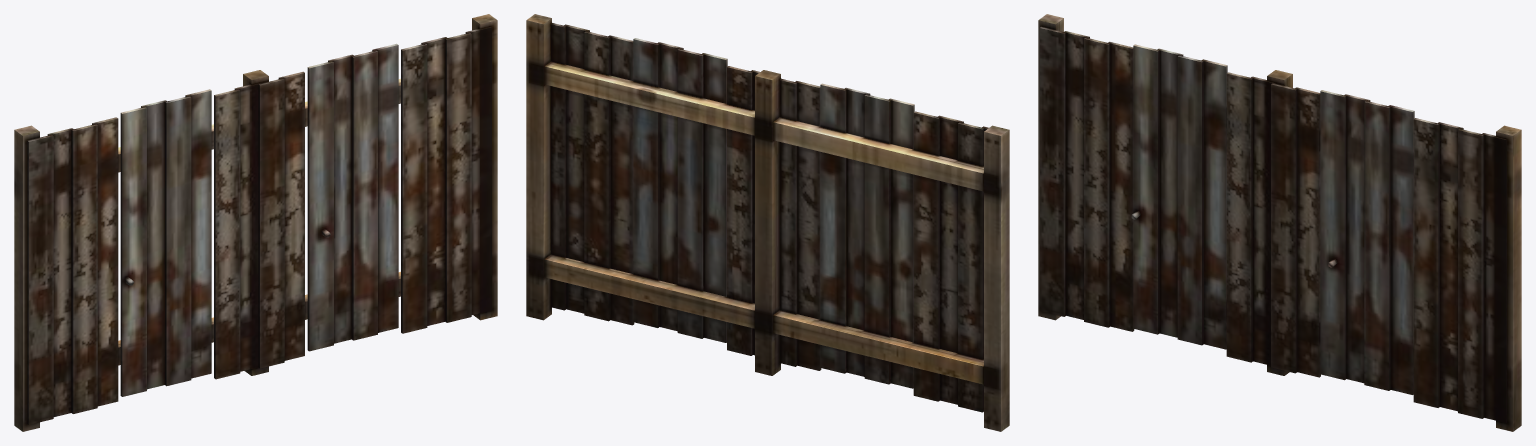
The model's file is div_chapa.glb.
3 renders of one model, left to right at view 1: azimuth 30°, elevation 25°; view 2: azimuth 150°, elevation 25°; view 3: azimuth 330°, elevation 25°, orthographic.
Visible parts, largest first — view 1: div_chapa; view 2: div_chapa; view 3: div_chapa.
Boxes of the visible parts, box(x1,y1,x2,y2) form: div_chapa: box(14, 14, 497, 431); div_chapa: box(526, 14, 1009, 431); div_chapa: box(1038, 14, 1521, 431).
Size of the model in its own units: 1.93 by 1.15 by 0.105.
1 material, 1 textured.
